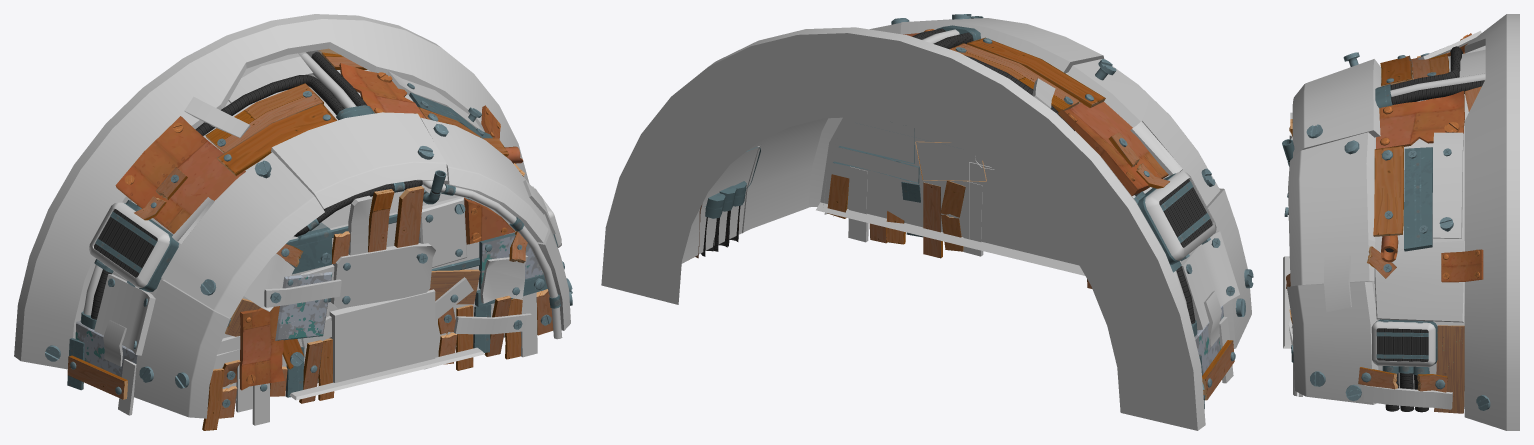
File: env_hideout_front.fbx
3 renders of one model, left to right at view 1: azimuth 30°, elevation 25°; view 2: azimuth 150°, elevation 25°; view 3: azimuth 270°, elevation 25°, orthographic. The views are drawn at different scales.
Parts seen in each view (by area): view 1: front_frame2; view 2: front_frame2; view 3: front_frame2.
Part boxes in pixels (x1=…): front_frame2: x1=14, y1=14, x2=572, y2=430; front_frame2: x1=601, y1=14, x2=1253, y2=430; front_frame2: x1=1282, y1=14, x2=1519, y2=430.
Size of the model in its own units: 198 by 107 by 80.77.
